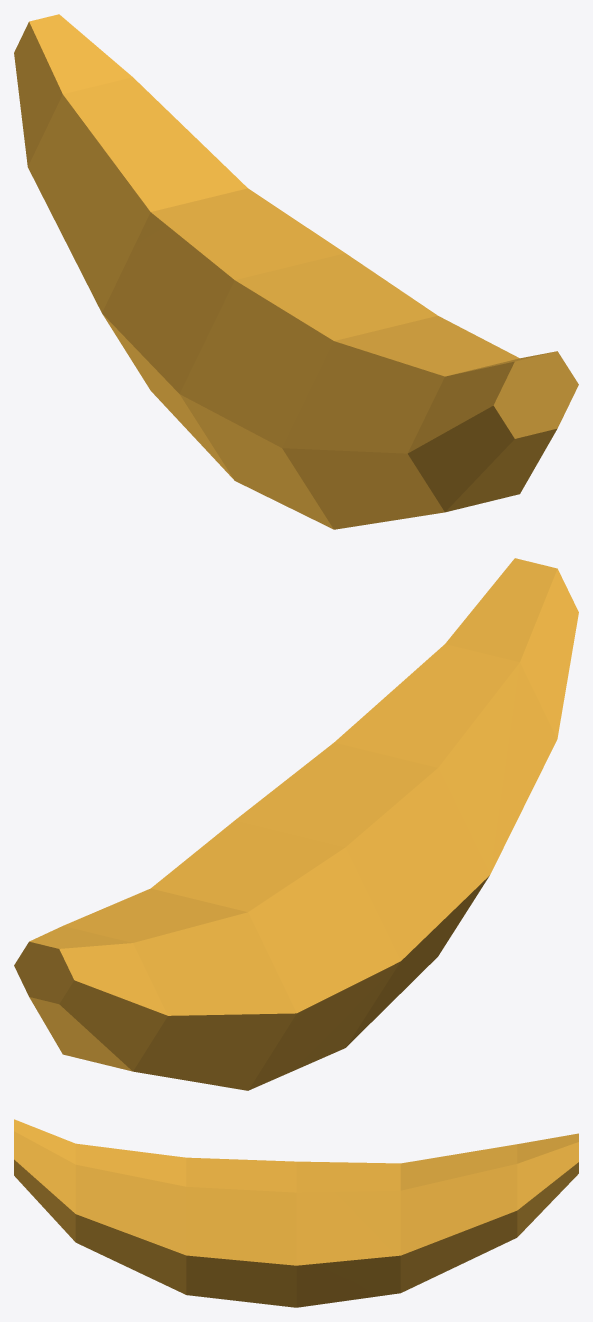
File: bananaBody.obj
The picture shows the model from 3 angles, top to bottom: view 1: azimuth 30°, elevation 25°; view 2: azimuth 150°, elevation 25°; view 3: azimuth 270°, elevation 25°; orthographic projection. The views are drawn at different scales.
Visible parts, largest first — view 1: banana; view 2: banana; view 3: banana.
Boxes of the visible parts, x1,y1,x2,y2 form: banana: (14, 14, 578, 529); banana: (14, 558, 578, 1090); banana: (14, 1119, 578, 1307).
Size of the model in its own units: 0.0688 by 0.0864 by 0.2648.
